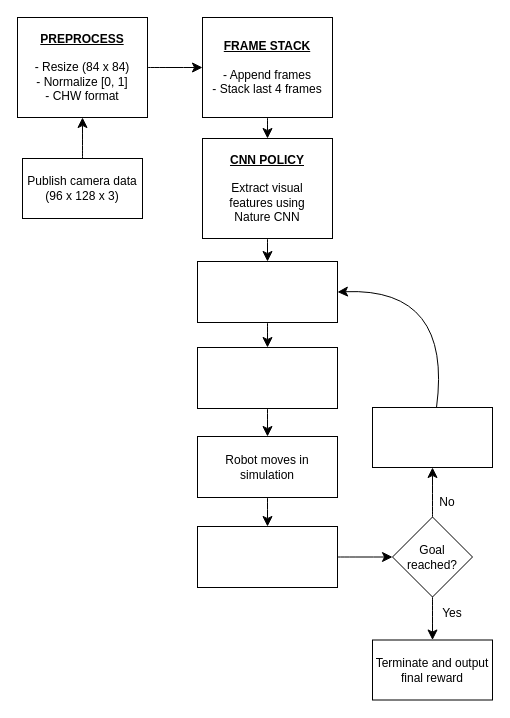
Image size: 510x718. Some labels were removed from this diagram. The shapes that lost their labels are listed below. From the top down, each one's centre as x and y in pixels, then its label:
[267,291]: PPO POLICY Sample action [v, w]
[267,377]: Publish command
[432,437]: Calculate reward and update PPO
[267,557]: Goal Manager
